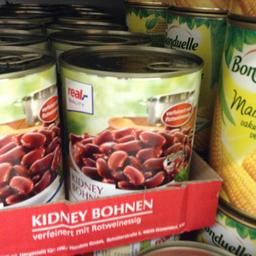beans: (58, 44, 202, 206), (1, 46, 58, 217)
